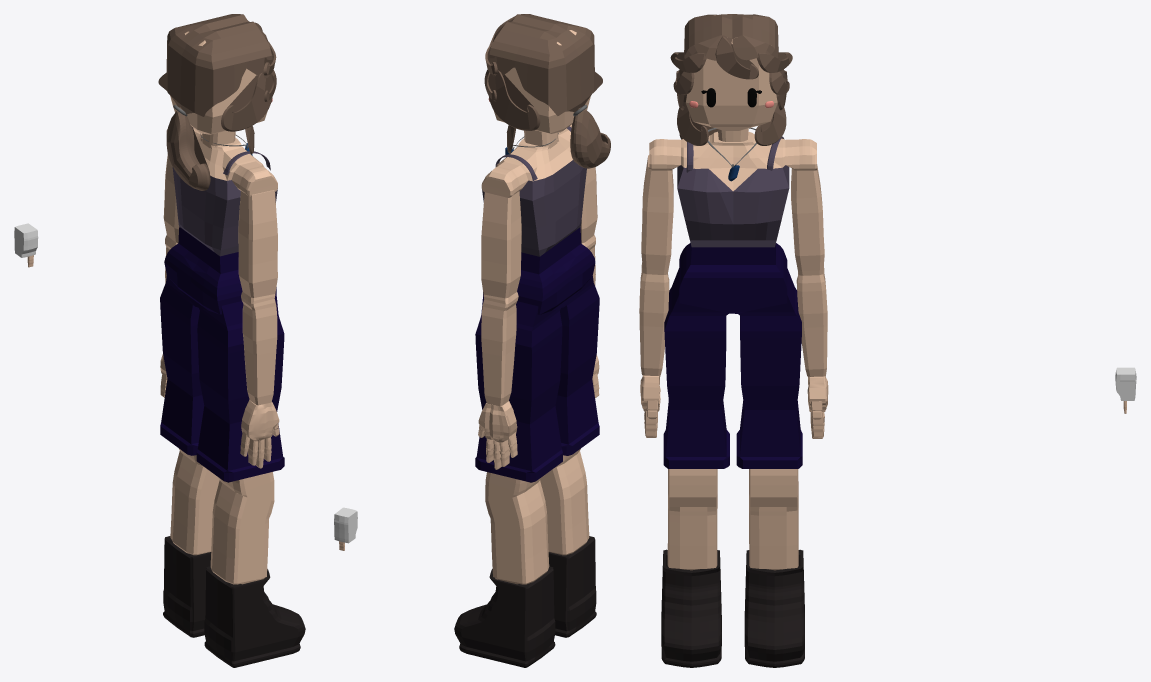
Rendered from person1.fbx.
3 views of the same model, side by side, from view 1: azimuth 30°, elevation 25°; view 2: azimuth 150°, elevation 25°; view 3: azimuth 270°, elevation 25° (orthographic).
Visible parts, largest first — view 1: trousers.004, hair base wavy.001, shoe.002, leg l.001, trousers.001, waist.002, torso.002, arms.006, leg r.001, shoe.003, arms.001, hair wisp medium down.004 (+8 smaller); view 2: trousers.001, hair base wavy.001, shoe.003, leg r.001, trousers.004, torso.002, waist.002, arms.007, leg l.001, shoe.002, arms.008, Cube.013 (+9 smaller); view 3: trousers.004, trousers.001, torso.002, waist.002, shoe.002, shoe.003, leg l.001, leg r.001, head.003, arms.006, arms.007, collar.004 (+12 smaller).
Part boxes in pixels (x1,y1,x2,y2): trousers.004: (196,293,284,482); hair base wavy.001: (158,14,272,116); shoe.002: (204,566,305,667); leg l.001: (210,472,274,584); trousers.001: (160,276,204,455); waist.002: (164,227,276,314); torso.002: (172,167,277,256); arms.006: (238,190,277,297); leg r.001: (170,448,219,555); shoe.003: (163,536,211,637); arms.001: (242,304,277,405); hair wisp medium down.004: (166,107,210,190); trousers.001: (475,294,562,482); hair base wavy.001: (489,14,602,115); shoe.003: (454,566,555,667); leg r.001: (485,472,549,584); trousers.004: (555,276,599,455); torso.002: (482,160,586,256); waist.002: (483,227,595,314); arms.007: (481,191,521,298); leg l.001: (540,448,589,555); shoe.002: (548,536,596,637); arms.008: (481,304,516,406); Cube.013: (478,401,517,469); trousers.004: (663,268,729,468); trousers.001: (736,268,802,468); torso.002: (677,165,789,247); waist.002: (679,243,787,313); shoe.002: (661,549,721,667); shoe.003: (744,549,804,667); leg l.001: (667,469,717,570); leg r.001: (749,469,798,570); head.003: (685,15,777,130); arms.006: (641,155,673,270); arms.007: (791,164,824,270); collar.004: (681,131,785,191).
Size of the model in its own units: 321 by 1662 by 1207.
